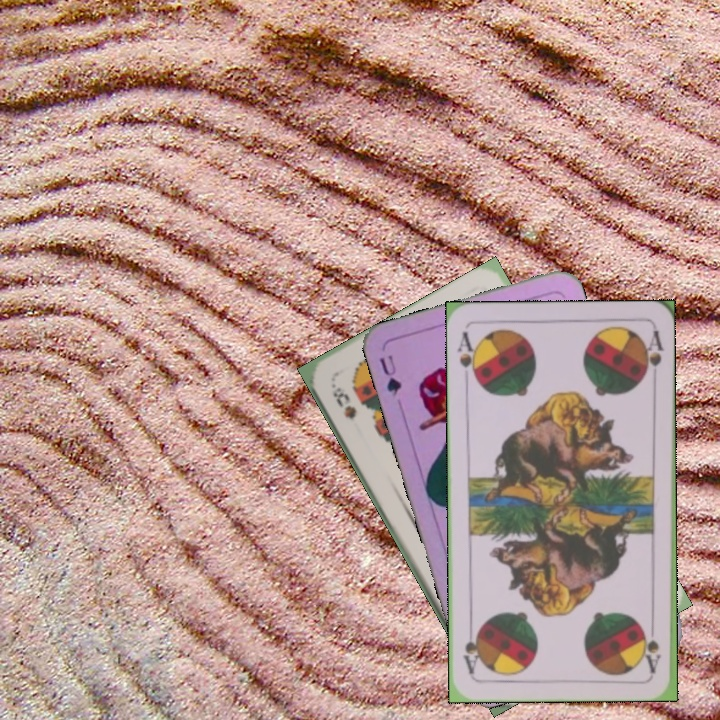GU: (375, 350, 405, 400)
S8: (326, 379, 360, 422)
SA: (453, 328, 481, 386), (641, 615, 663, 674)
